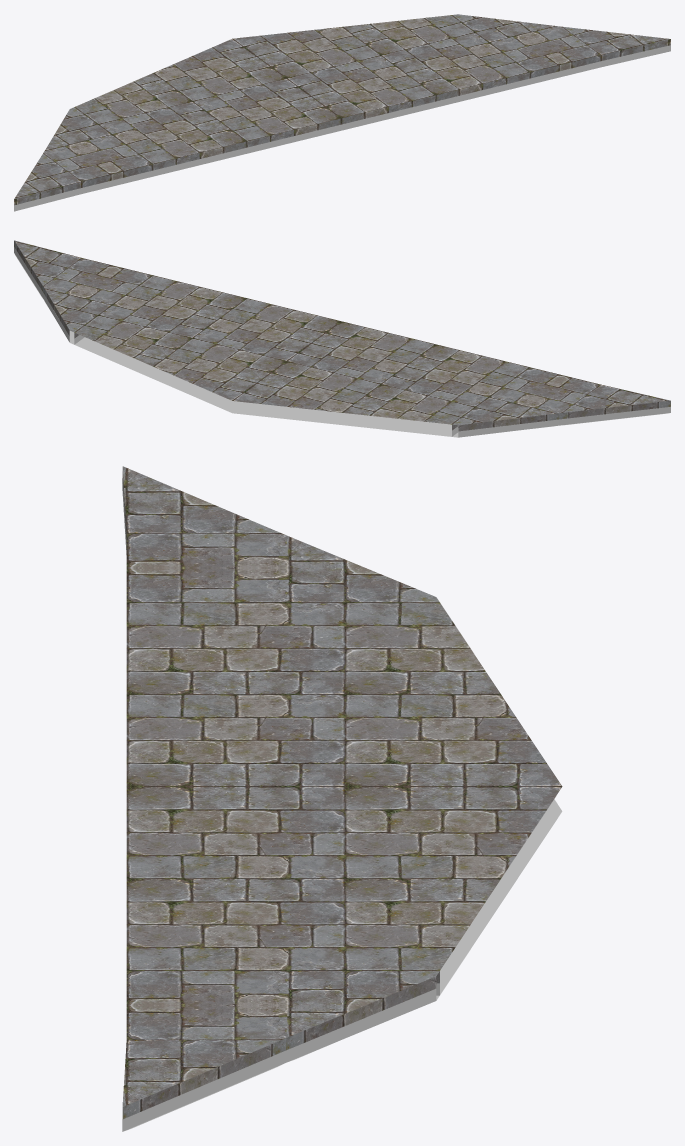
3 renders of one model, top to bottom at view 1: azimuth 30°, elevation 25°; view 2: azimuth 150°, elevation 25°; view 3: azimuth 270°, elevation 25°, orthographic. The views are drawn at different scales.
Parts seen in each view (by area): view 1: SM_DR_Greathall_FloorCap_01_LOD0; view 2: SM_DR_Greathall_FloorCap_01_LOD0; view 3: SM_DR_Greathall_FloorCap_01_LOD0.
Boxes of the visible parts, bbox=[...] form: SM_DR_Greathall_FloorCap_01_LOD0: bbox=[14, 14, 670, 211]; SM_DR_Greathall_FloorCap_01_LOD0: bbox=[14, 240, 670, 437]; SM_DR_Greathall_FloorCap_01_LOD0: bbox=[122, 466, 562, 1131].
Size of the model in its own units: 27.85 by 0.4999 by 8.08.
